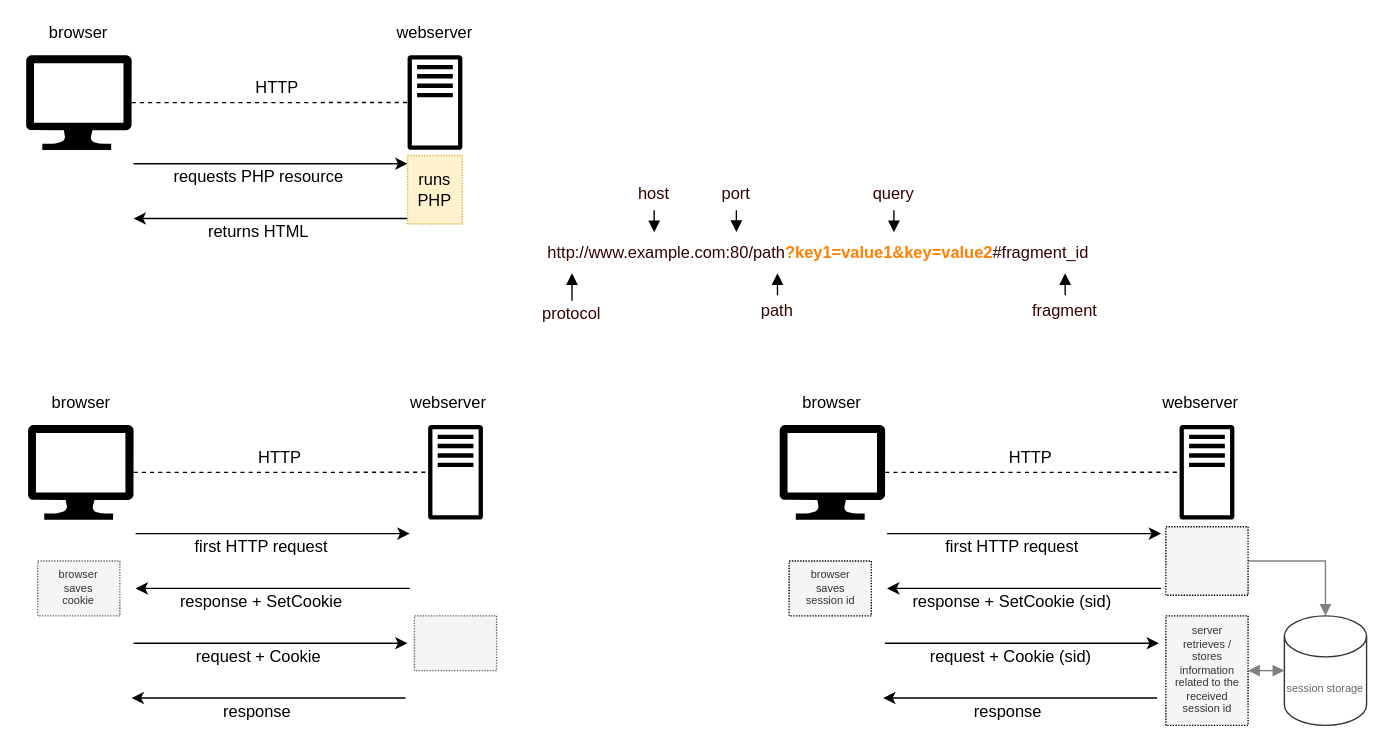
This 1391x749 diagram has some shape labels left out. Here are the shapes that lost their labels. From the top down, the centre of each, then its label:
point (1206, 560): session id generated
point (455, 642): server receives saved cookie
